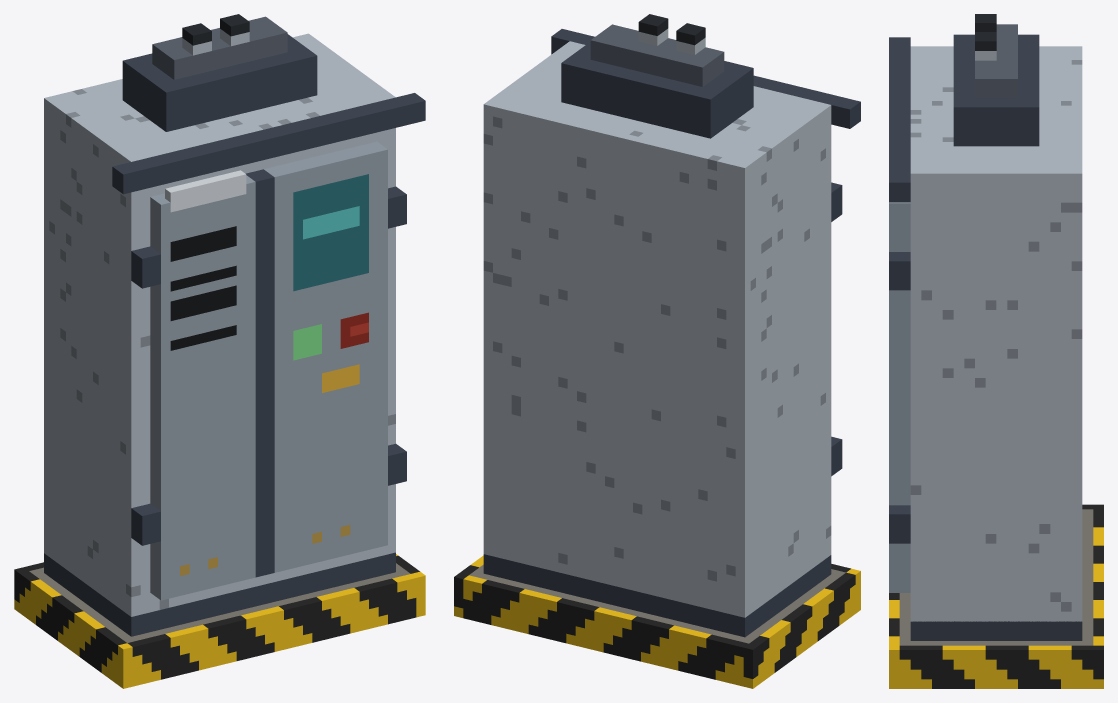
Rendered from control_cabinet.obj.
3 renders of one model, left to right at view 1: azimuth 30°, elevation 25°; view 2: azimuth 150°, elevation 25°; view 3: azimuth 270°, elevation 25°, orthographic.
Parts seen in each view (by area): view 1: control_cabinet; view 2: control_cabinet; view 3: control_cabinet.
Part boxes in pixels (x1,y1,x2,y2): control_cabinet: (14, 14, 425, 688); control_cabinet: (454, 14, 860, 688); control_cabinet: (889, 14, 1103, 688).
Size of the model in its own units: 1 by 1.88 by 0.625.
